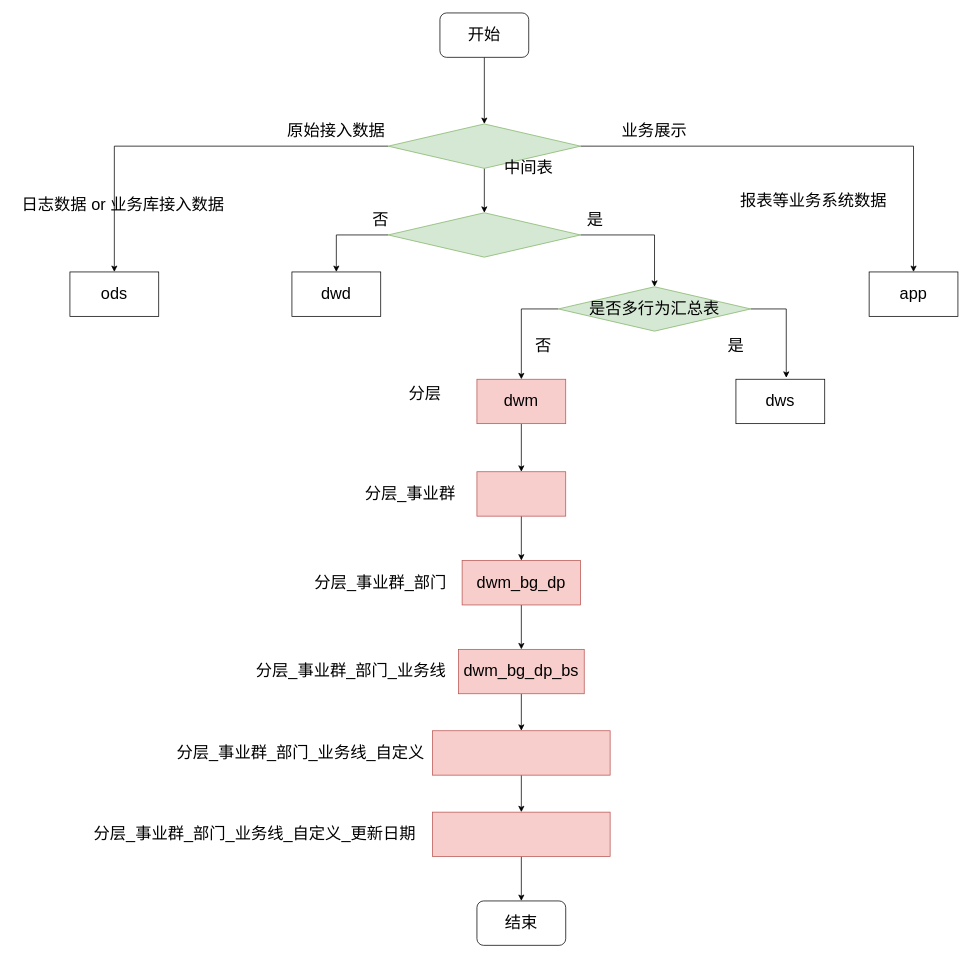
Some shapes in this 971 by 958 pixel diagram are drawn without their labels. The box of each missing label's shape, as (x1, y1, x2, y2) in pixels:
dwm_bg: (476, 471, 566, 516)
dwm_bg_dp_bs_xxx: (432, 730, 610, 775)
dwm_bg_dp_bs_xxx_d: (432, 811, 610, 857)
是否有group操作: (387, 212, 581, 257)
表用途: (387, 123, 581, 168)
